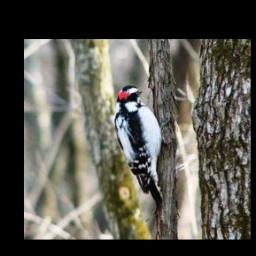Woodpecker: (112, 85, 170, 213)
